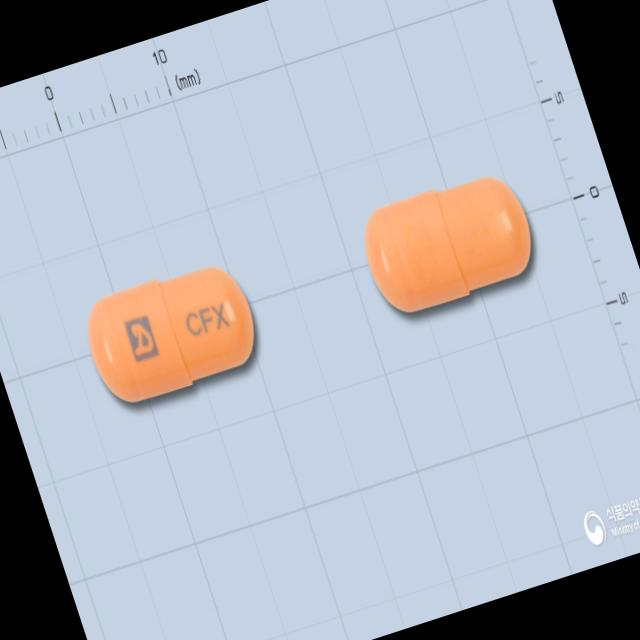Dongkoo Cefixime Hydrate Cap: (75, 253, 268, 411)
